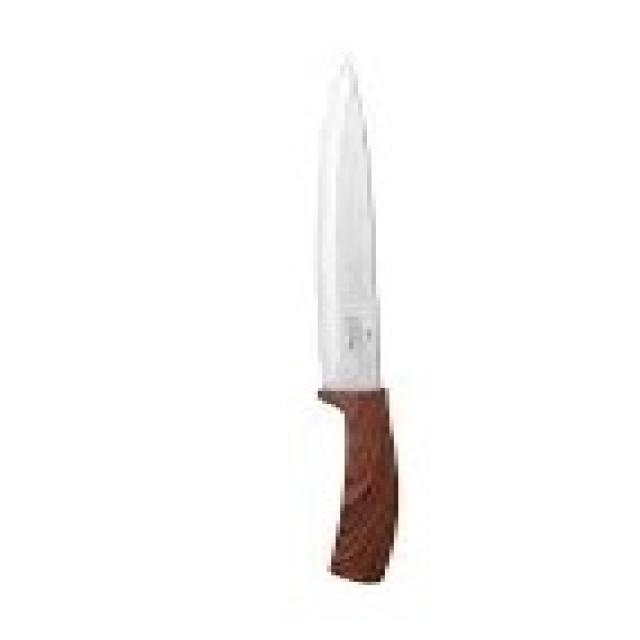knife: (295, 45, 423, 586)
